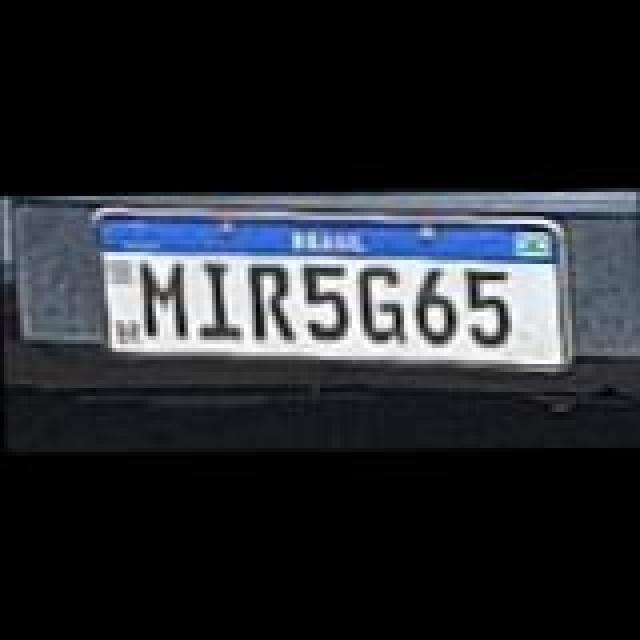5: (302, 264, 350, 340), (468, 270, 512, 346)
6: (414, 266, 454, 342)
G: (358, 264, 406, 344)
I: (196, 260, 240, 340)
M: (142, 258, 190, 338)
R: (248, 264, 292, 340)
